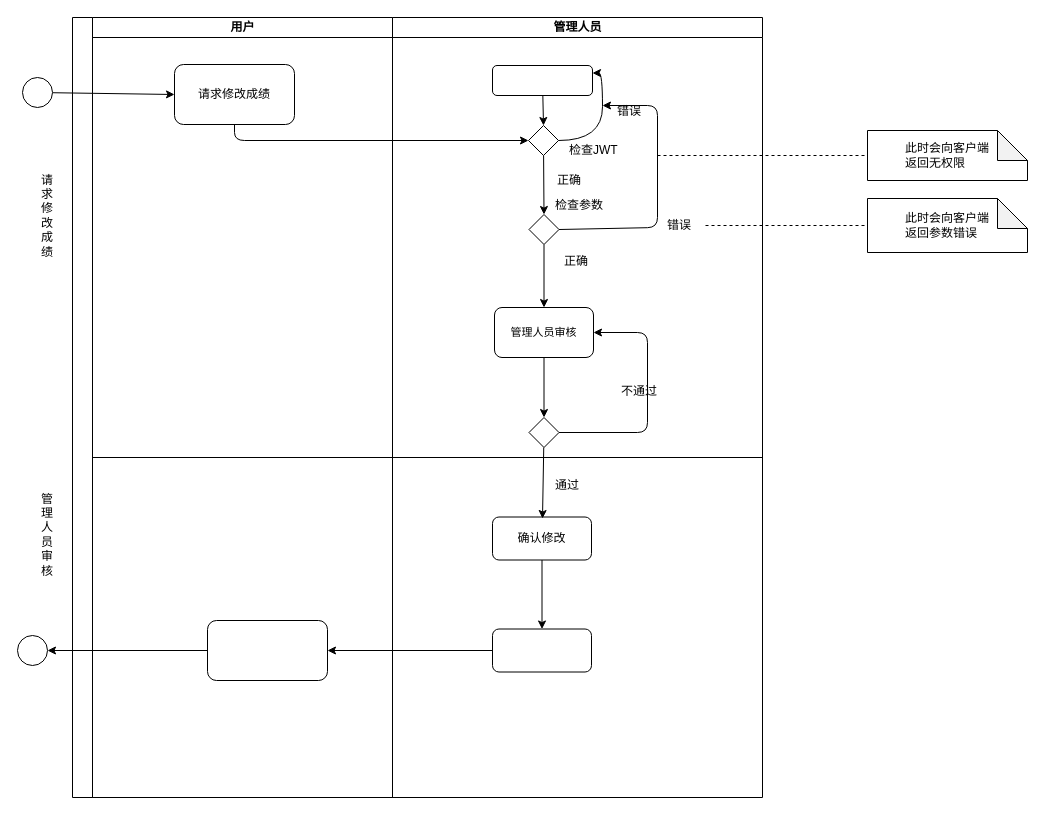
The diagram is 1045 pixels wide and 815 high, and some of its shapes have lost their labels. Here are the shapes that lost their labels. From the top down, the box of each, then its label:
(492, 64, 592, 96): 准备查询
(206, 620, 328, 680): 修改成功
(492, 628, 592, 672): 保存修改记录
